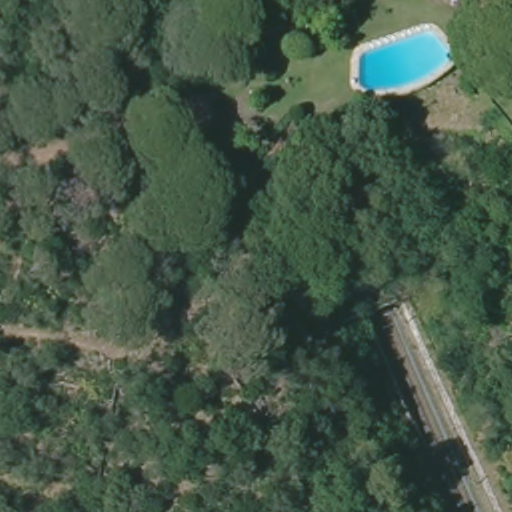pool: (353, 30, 452, 96)
